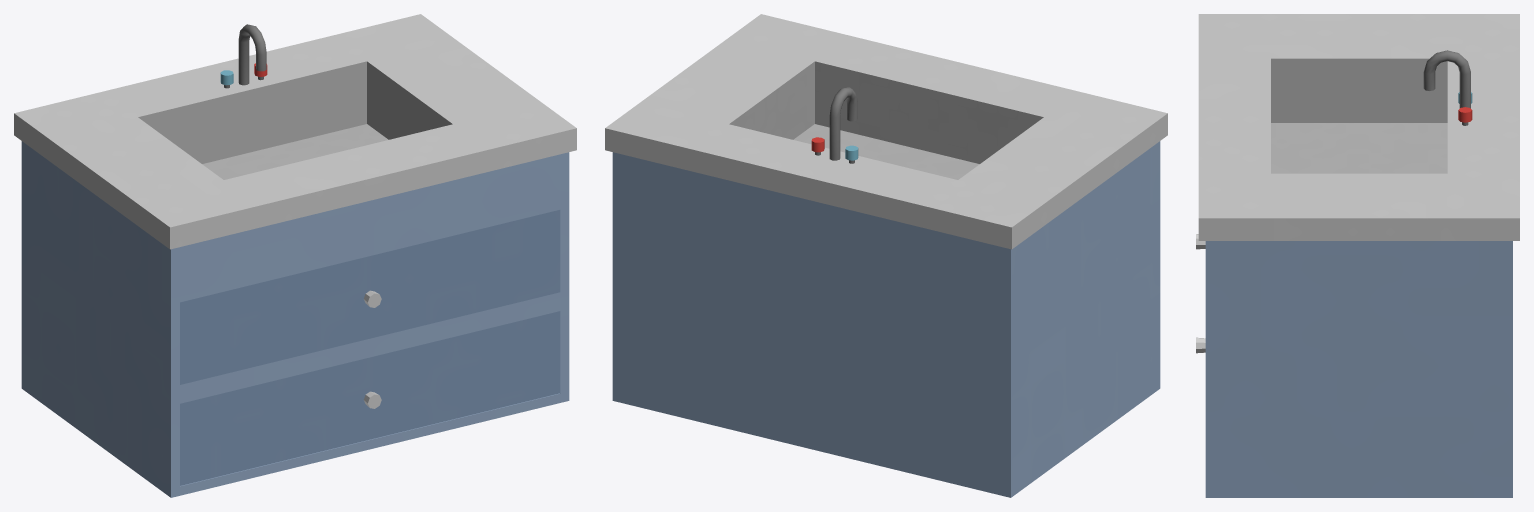
Rendered from Toilet_Sink_02.fbx.
3 renders of one model, left to right at view 1: azimuth 30°, elevation 25°; view 2: azimuth 150°, elevation 25°; view 3: azimuth 270°, elevation 25°, orthographic. The views are drawn at different scales.
Visible parts, largest first — view 1: Toilet_Sink_02, Toilet_Sink_02_Drawer, Toilet_Sink_02_Drawer.001; view 2: Toilet_Sink_02; view 3: Toilet_Sink_02.
Part boxes in pixels (left/top/right/bottom): Toilet_Sink_02: left=14, top=14, right=576, bottom=497; Toilet_Sink_02_Drawer: left=180, top=210, right=560, bottom=384; Toilet_Sink_02_Drawer.001: left=180, top=311, right=560, bottom=485; Toilet_Sink_02: left=605, top=14, right=1167, bottom=497; Toilet_Sink_02: left=1198, top=14, right=1519, bottom=497.
Bounding box in the file's own units: 1.32 × 1.05 × 0.8854.
